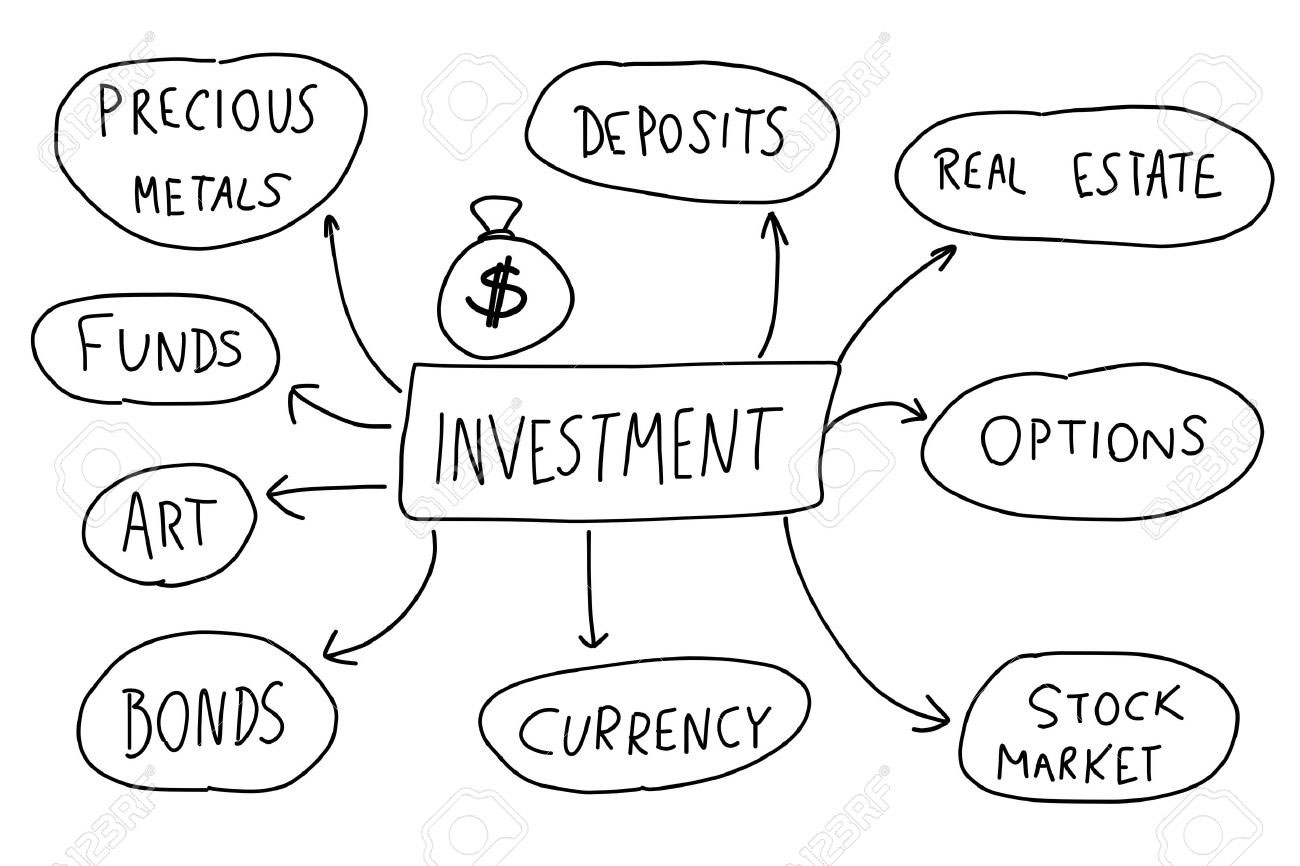circle: (50, 51, 371, 253), (916, 358, 1267, 524), (889, 103, 1277, 253), (474, 653, 815, 799), (519, 56, 846, 206), (956, 648, 1244, 809), (72, 628, 340, 798), (27, 291, 282, 408), (77, 459, 261, 592)
line: (780, 514, 951, 737), (317, 527, 440, 672), (321, 211, 404, 401), (835, 242, 959, 359), (262, 469, 389, 522), (285, 381, 391, 438), (754, 209, 792, 358), (572, 527, 611, 654), (824, 397, 926, 434)
square: (394, 357, 844, 528)
